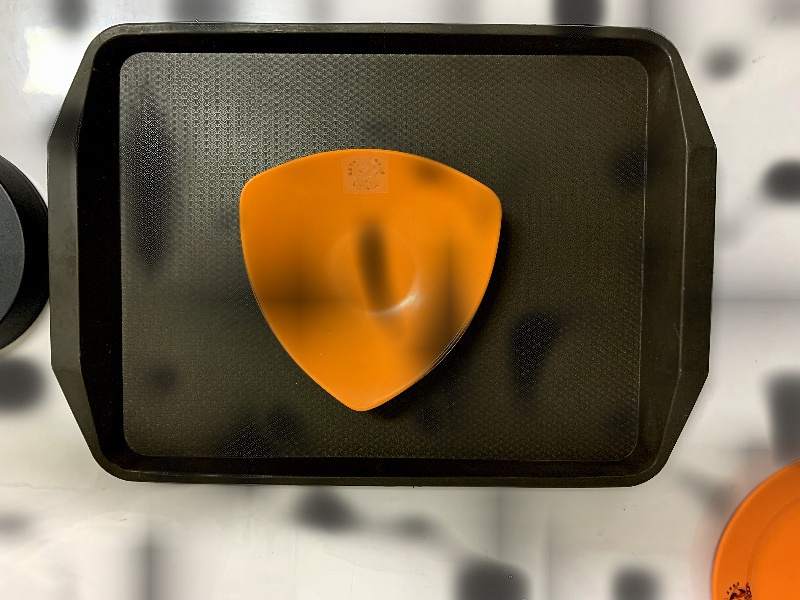dish11: (232, 142, 508, 419)
